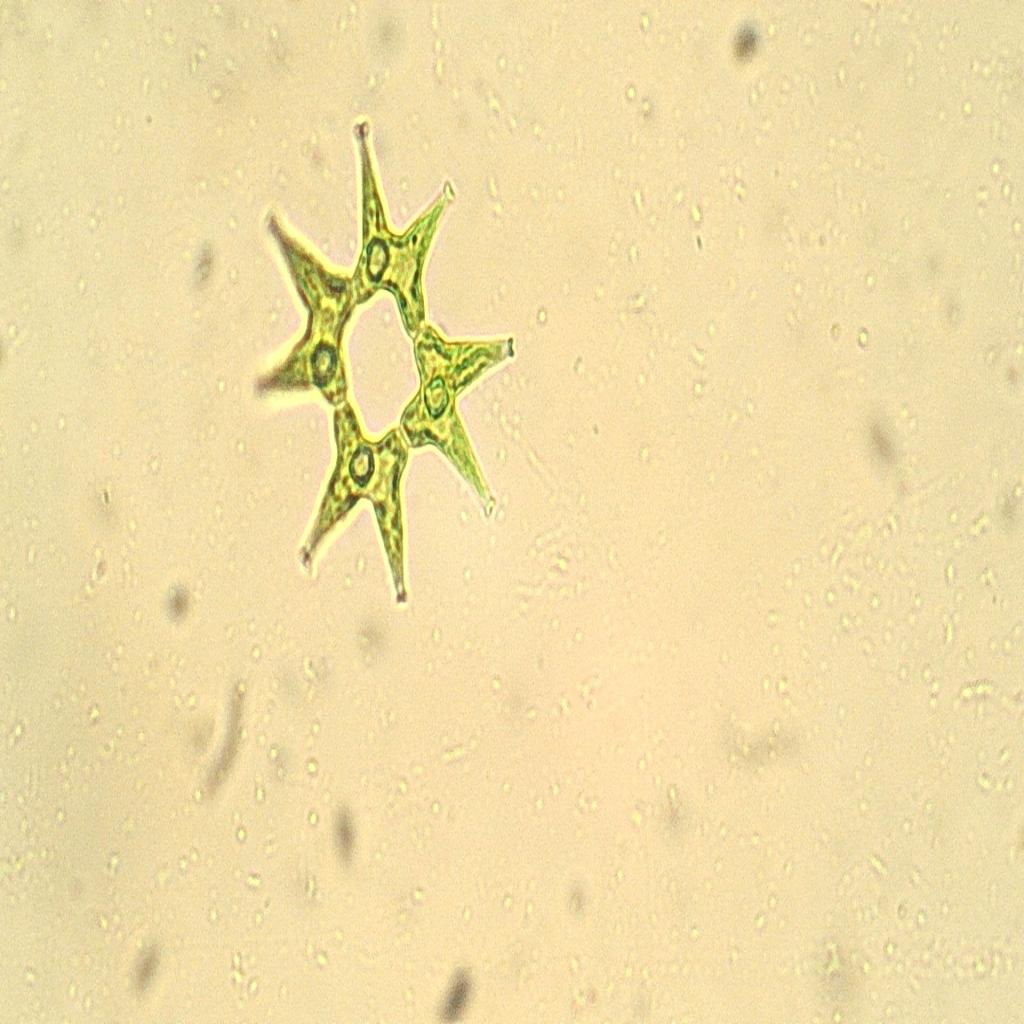Pediastrum_75O: (218, 106, 534, 630)
